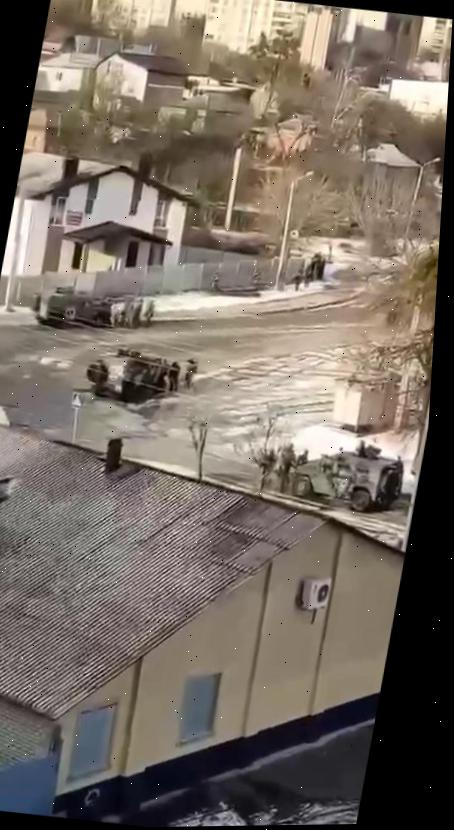armored_car: (283, 439, 407, 517), (81, 344, 169, 403), (25, 279, 115, 332)
person: (267, 434, 302, 494), (249, 445, 279, 494), (175, 352, 199, 394), (161, 356, 180, 395), (127, 293, 147, 329), (244, 261, 267, 292), (139, 297, 161, 327), (206, 268, 223, 292), (297, 442, 314, 465)
